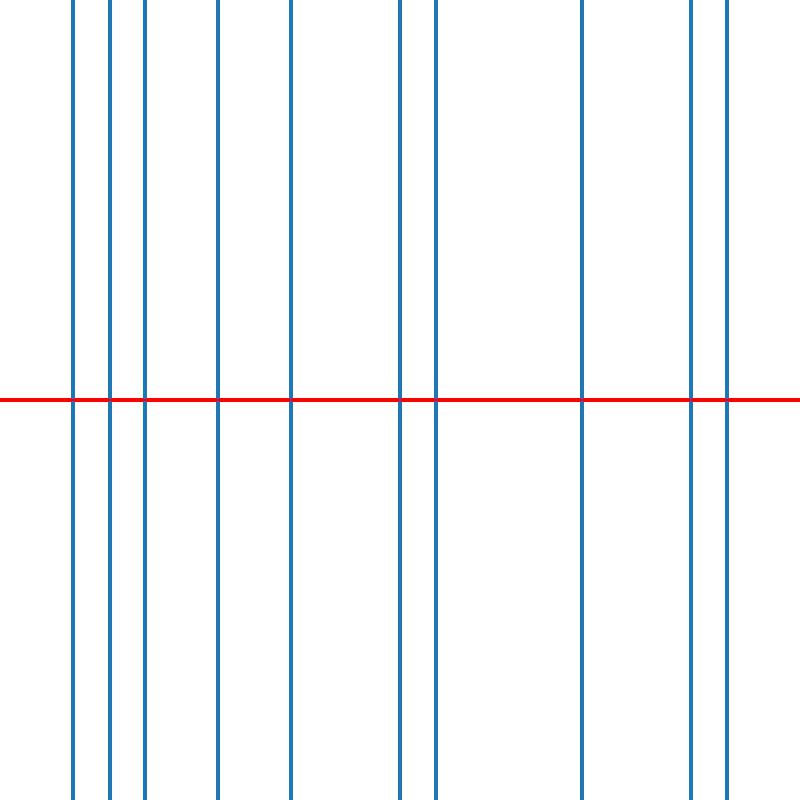root: (432, 396, 440, 404), (141, 396, 149, 404), (105, 396, 112, 404), (723, 396, 730, 404), (69, 396, 76, 404), (287, 396, 294, 404), (578, 396, 585, 404), (687, 396, 694, 404), (214, 396, 221, 404), (396, 396, 403, 404)
